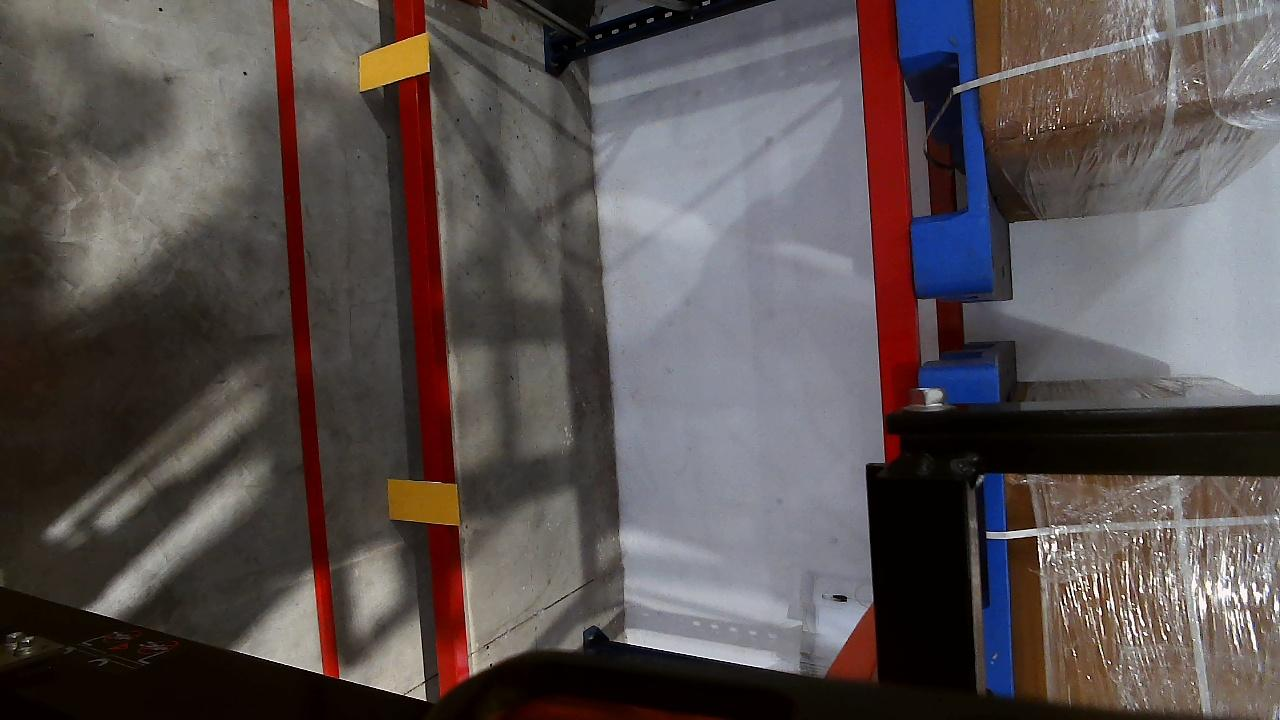h_rack: (392, 3, 461, 690), (854, 2, 921, 413)
orange_strip: (357, 38, 430, 87), (387, 479, 460, 526)
red_line: (265, 0, 338, 678)
small_pallet: (891, 1, 998, 289)
